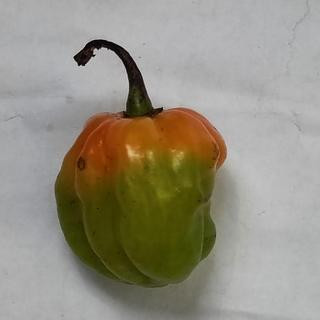Defect: (73, 155, 91, 174)
